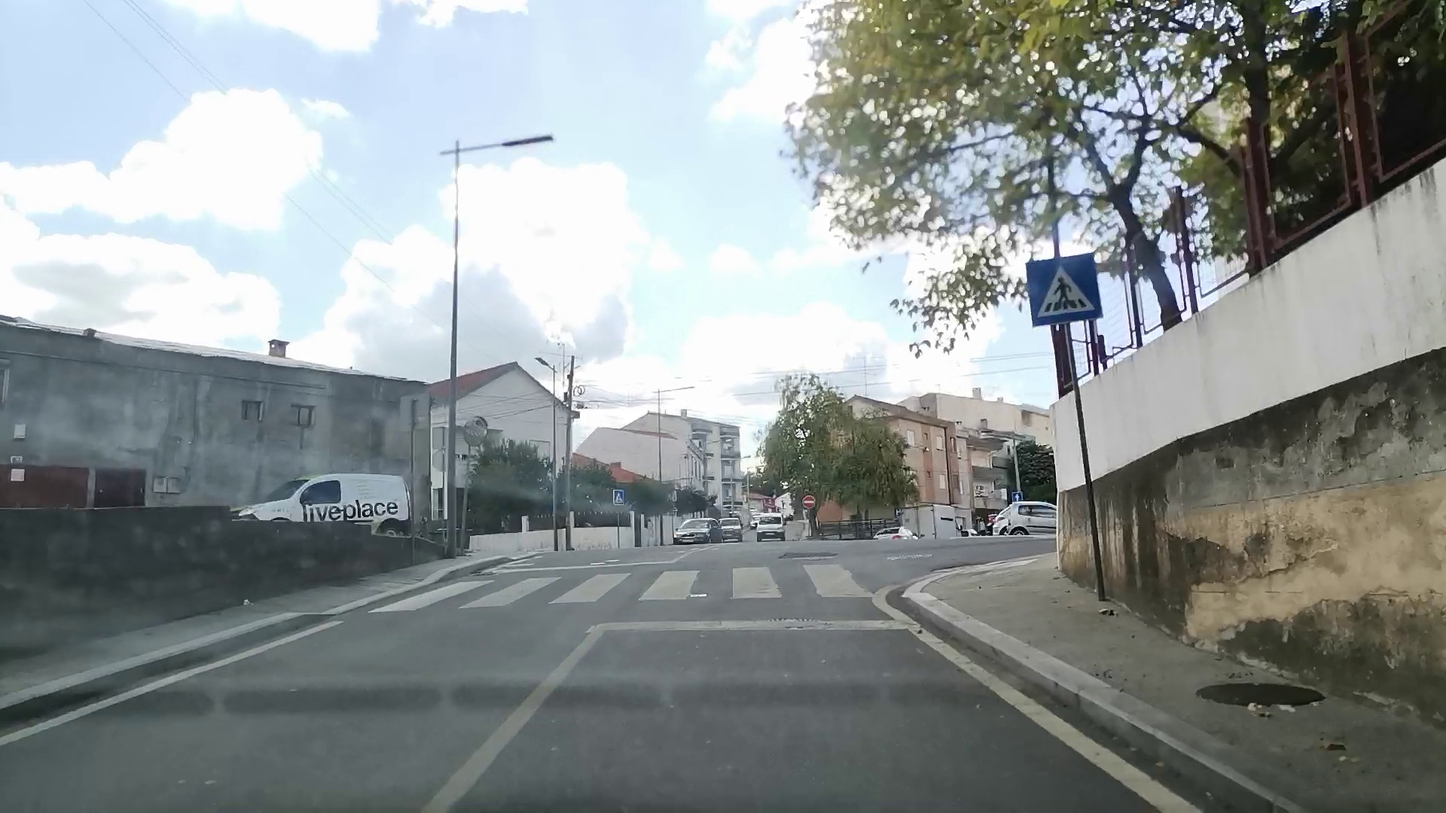Stairs: (374, 561, 874, 610)
